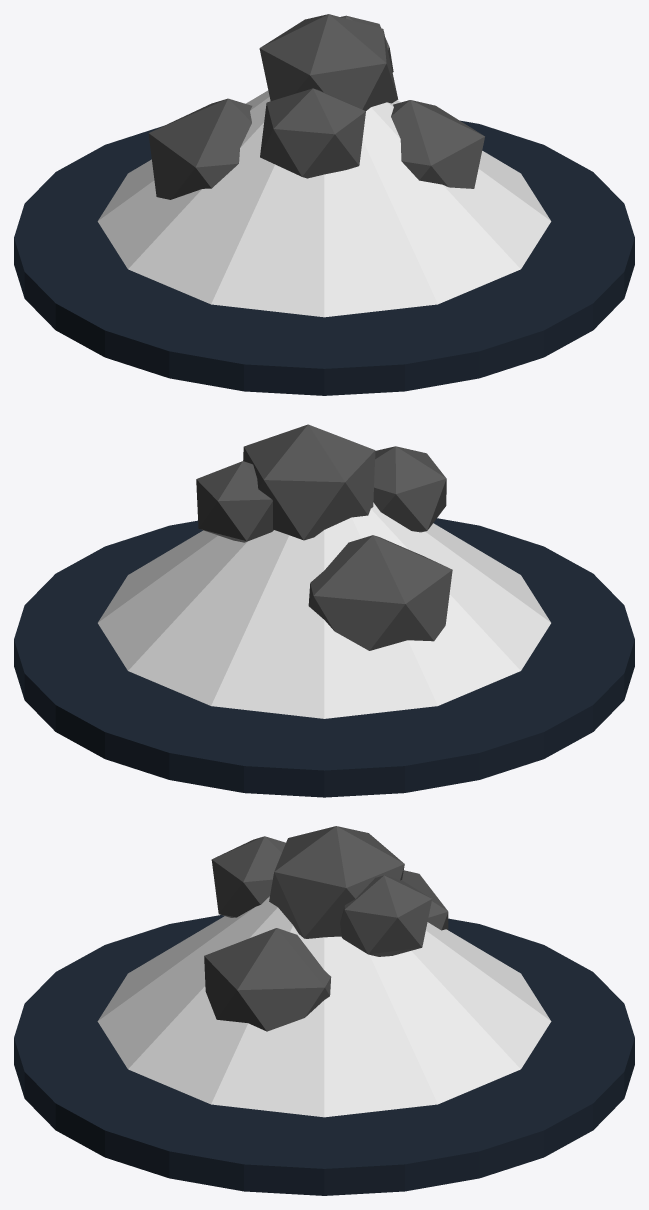
File: goods_coal.glb
3 renders of one model, top to bottom at view 1: azimuth 30°, elevation 25°; view 2: azimuth 150°, elevation 25°; view 3: azimuth 270°, elevation 25°, orthographic.
Visible parts, largest first — view 1: pad, Cone, Icosphere.002, Icosphere.003, Icosphere, Icosphere.001; view 2: pad, Cone, Icosphere, Icosphere.002, Icosphere.003, Icosphere.004; view 3: pad, Cone, Icosphere.001, Icosphere.002, Icosphere.004, Icosphere.003, Icosphere.
Part boxes in pixels (x1,y1,x2,y2): pad: (14, 120, 634, 395); Cone: (97, 90, 551, 317); Icosphere.002: (259, 14, 398, 110); Icosphere.003: (260, 88, 365, 178); Icosphere: (148, 98, 252, 199); Icosphere.001: (391, 100, 484, 188); pad: (14, 518, 634, 797); Cone: (98, 502, 550, 718); Icosphere: (308, 535, 452, 650); Icosphere.002: (243, 424, 375, 540); Icosphere.003: (373, 446, 446, 532); Icosphere.004: (196, 461, 273, 542); pad: (14, 915, 634, 1195); Cone: (97, 896, 551, 1117); Icosphere.001: (204, 928, 331, 1031); Icosphere.002: (269, 826, 404, 938); Icosphere.004: (340, 875, 431, 956); Icosphere.003: (211, 836, 285, 917); Icosphere: (402, 870, 448, 930).
Size of the model in its own units: 5.2 by 2.25 by 5.2.
